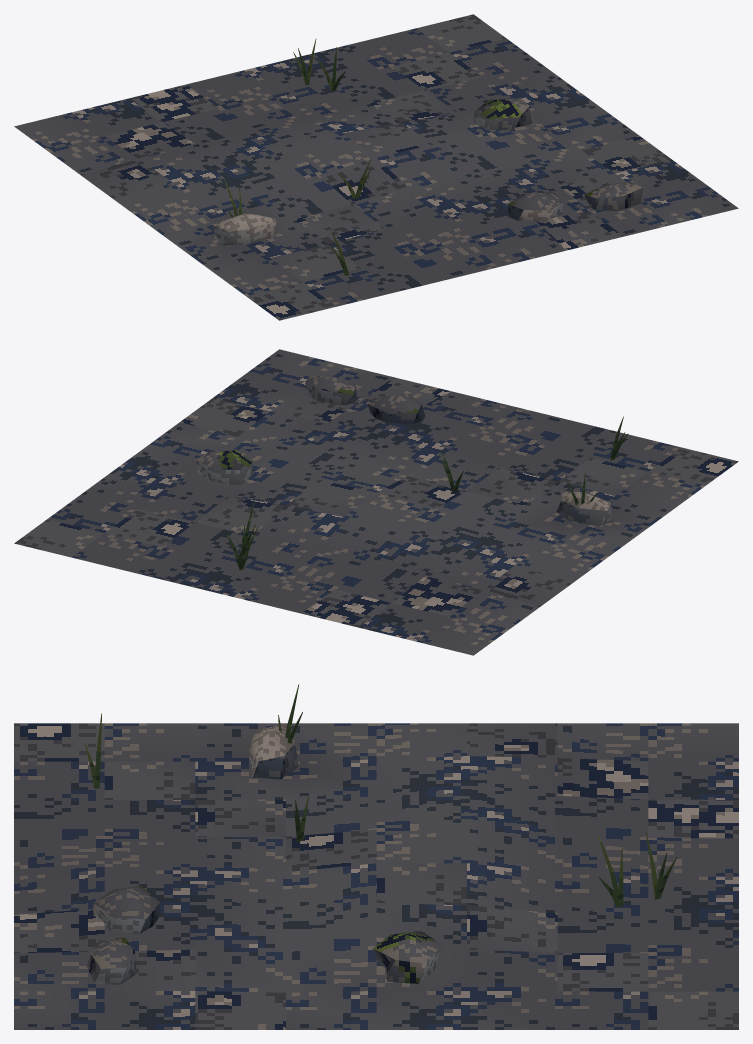
File: lake.bed.glb
3 renders of one model, top to bottom at view 1: azimuth 30°, elevation 25°; view 2: azimuth 150°, elevation 25°; view 3: azimuth 270°, elevation 25°, orthographic. The views are drawn at different scales.
Parts seen in each view (by area): view 1: kit_shell_bed, kit_rocks, kit_weeds; view 2: kit_shell_bed, kit_rocks, kit_weeds; view 3: kit_shell_bed, kit_rocks, kit_weeds.
Part boxes in pixels (<box>): kit_shell_bed: <box>14,14,738,320</box>; kit_rocks: <box>212,98,642,245</box>; kit_weeds: <box>224,39,371,275</box>; kit_shell_bed: <box>14,349,738,655</box>; kit_rocks: <box>194,375,612,525</box>; kit_weeds: <box>224,416,628,570</box>; kit_shell_bed: <box>14,723,738,1029</box>; kit_rocks: <box>86,724,441,984</box>; kit_weeds: <box>85,684,677,907</box>.
Size of the model in its own units: 8 by 0.9612 by 8.
Materials: 4 (4 with a texture image).
